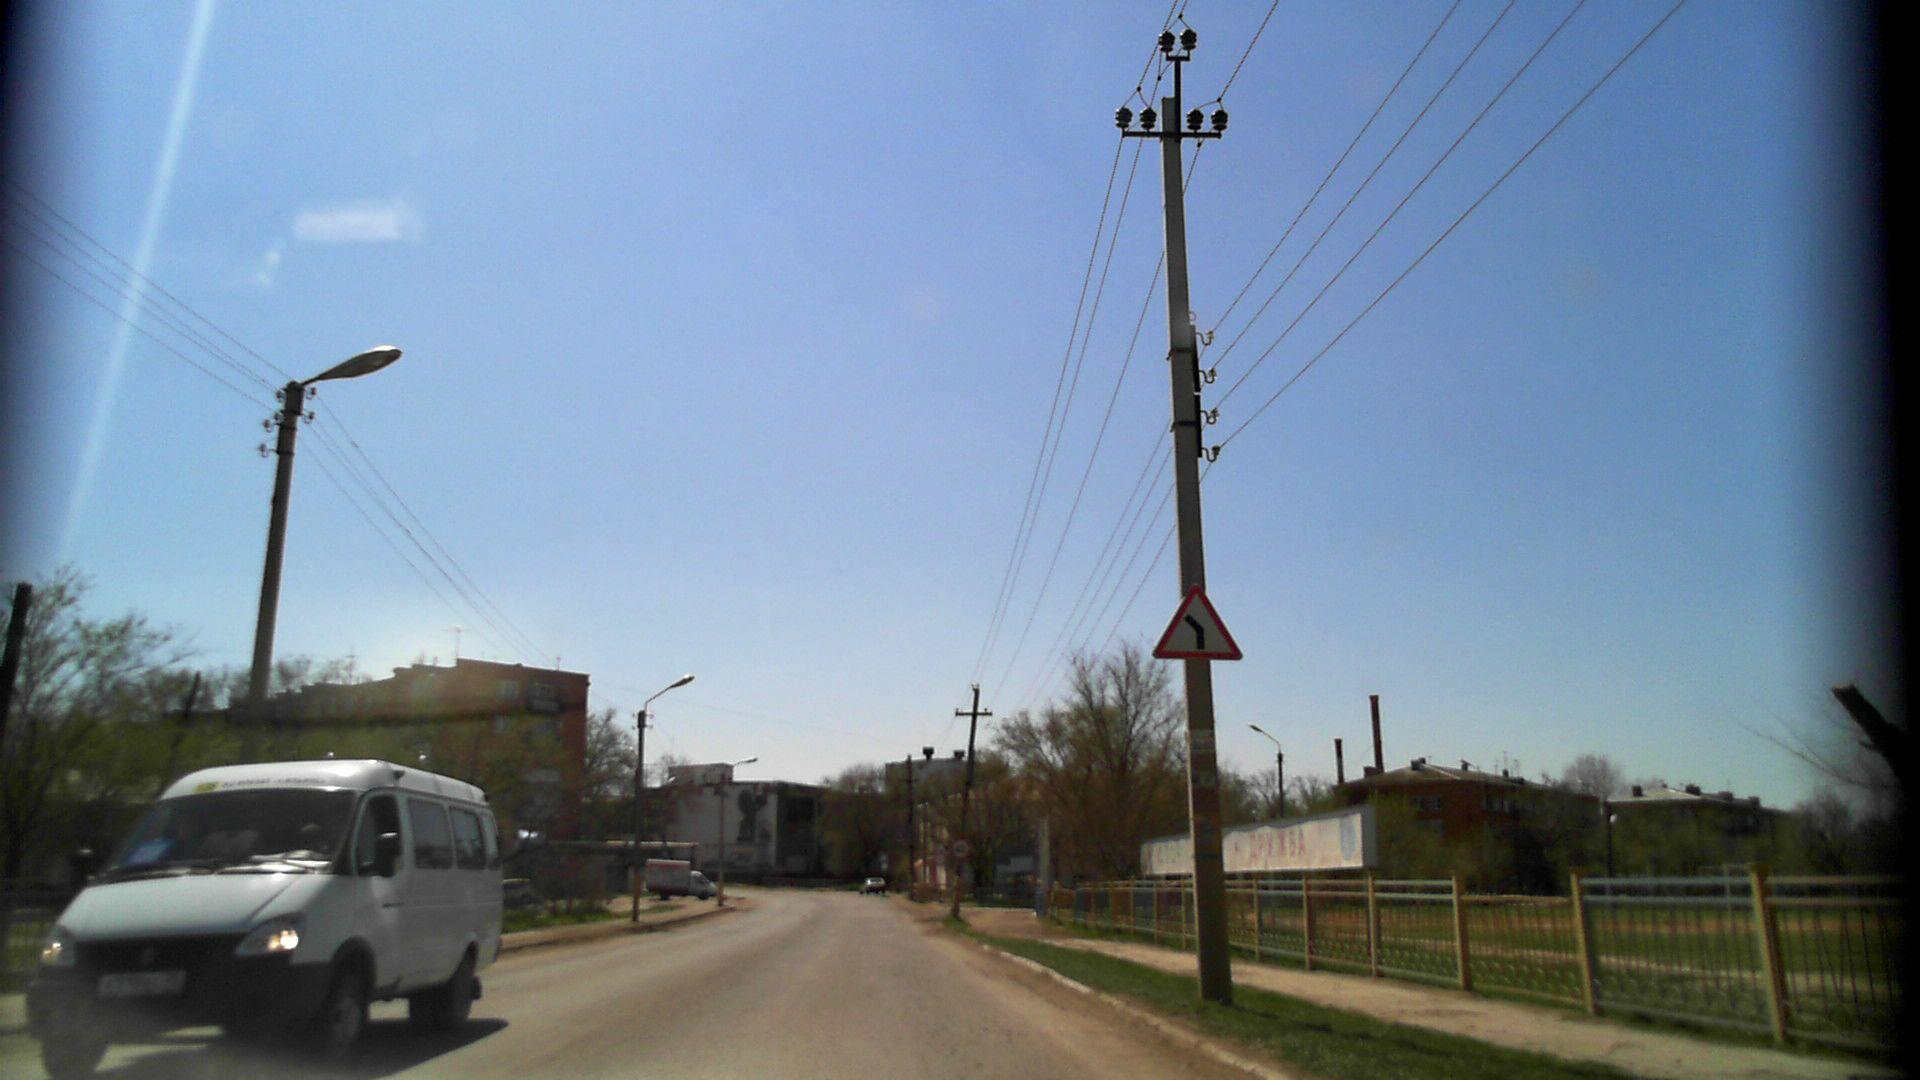1_11_1: (1145, 582, 1246, 665)
